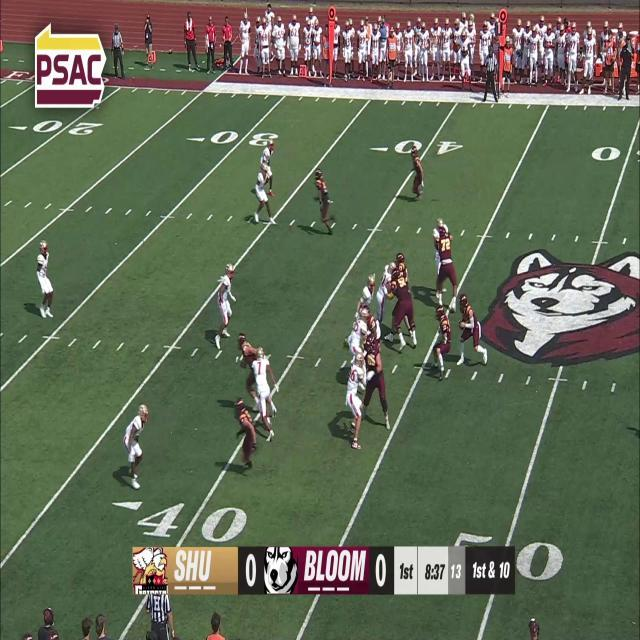football: (458, 320, 464, 330)
